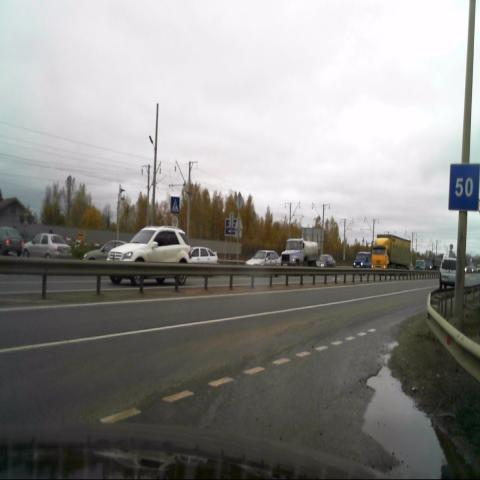6_2: (448, 163, 479, 212)
